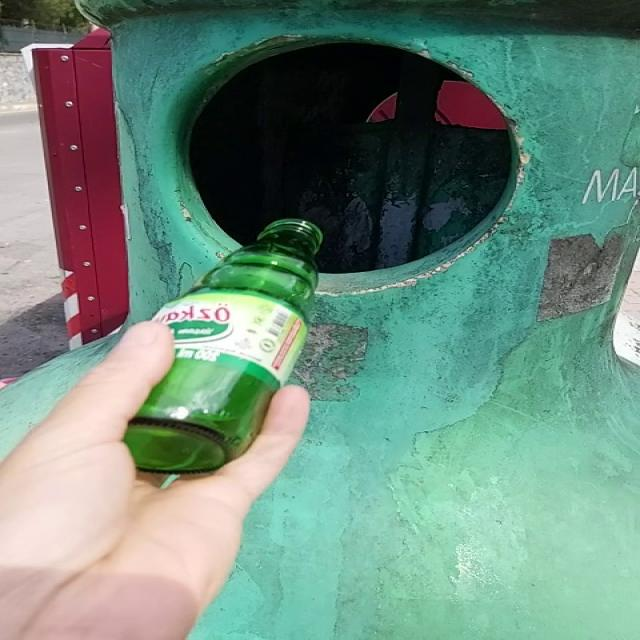glass: (124, 219, 323, 474)
